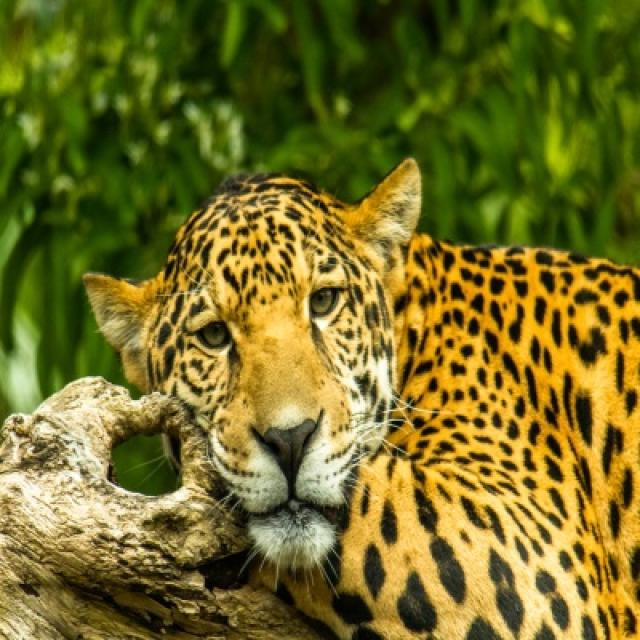Jaguar: (82, 158, 638, 638)
